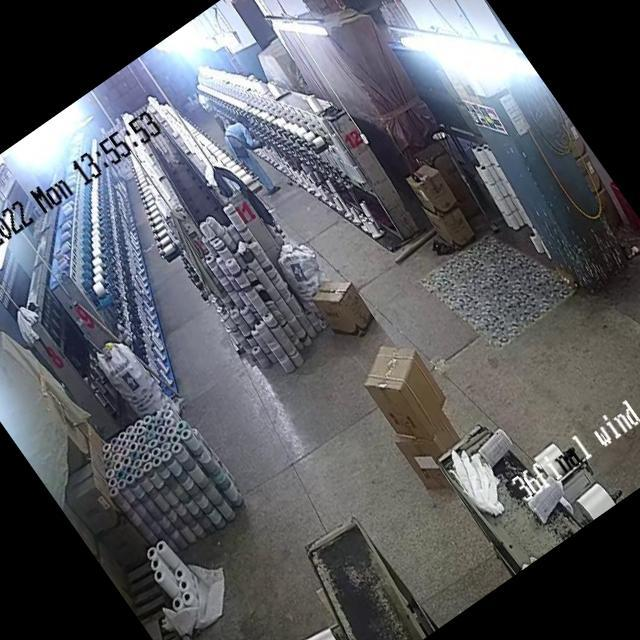person: (218, 116, 287, 198)
